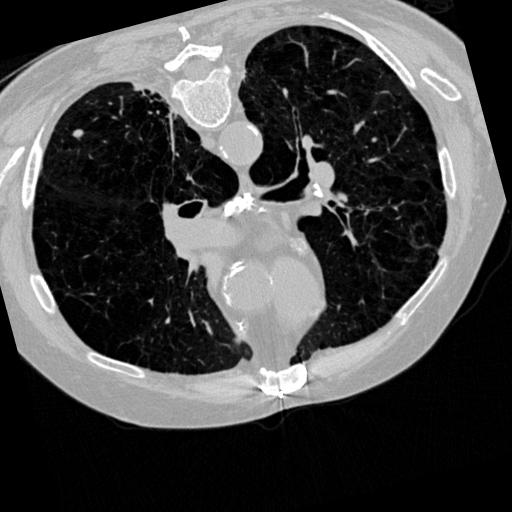nodule: (68, 126, 85, 143)
